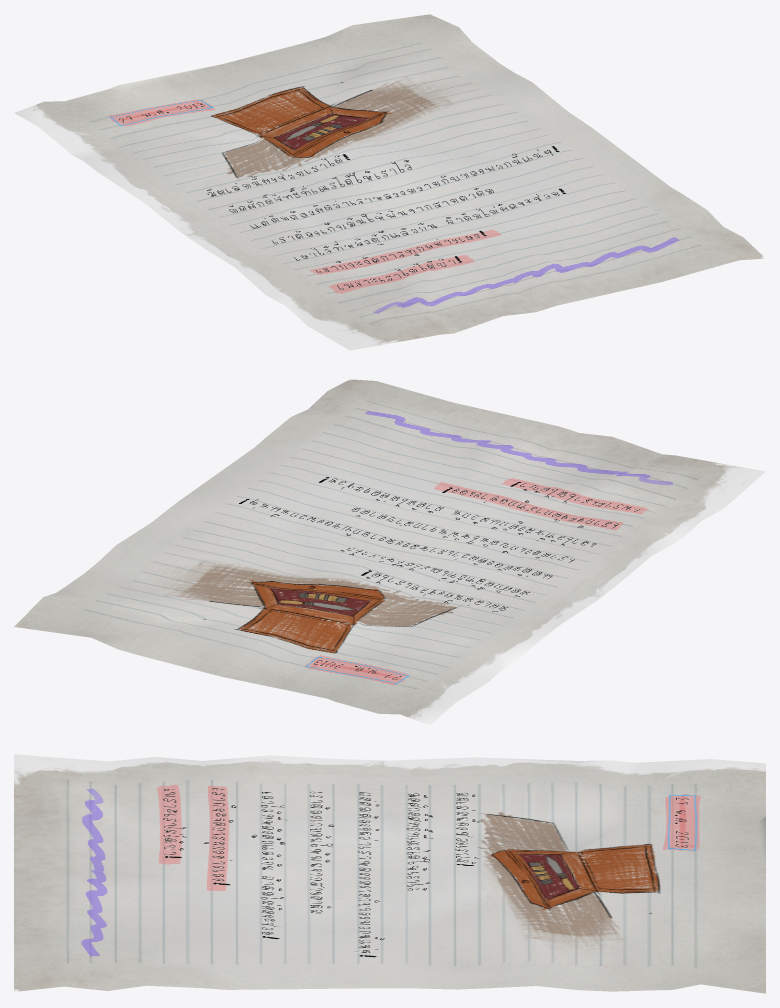
Rendered from diary08.FBX.
The picture shows the model from 3 angles, top to bottom: view 1: azimuth 30°, elevation 25°; view 2: azimuth 150°, elevation 25°; view 3: azimuth 270°, elevation 25°; orthographic projection. The views are drawn at different scales.
Visible parts, largest first — view 1: SM_Diary2; view 2: SM_Diary2; view 3: SM_Diary2.
Part boxes in pixels (x1,y1,x2,y2): SM_Diary2: (14, 14, 765, 350); SM_Diary2: (14, 379, 765, 725); SM_Diary2: (14, 754, 765, 993).
Size of the model in its own units: 18.8 by 0.5262 by 26.3.
1 material, 1 textured.
